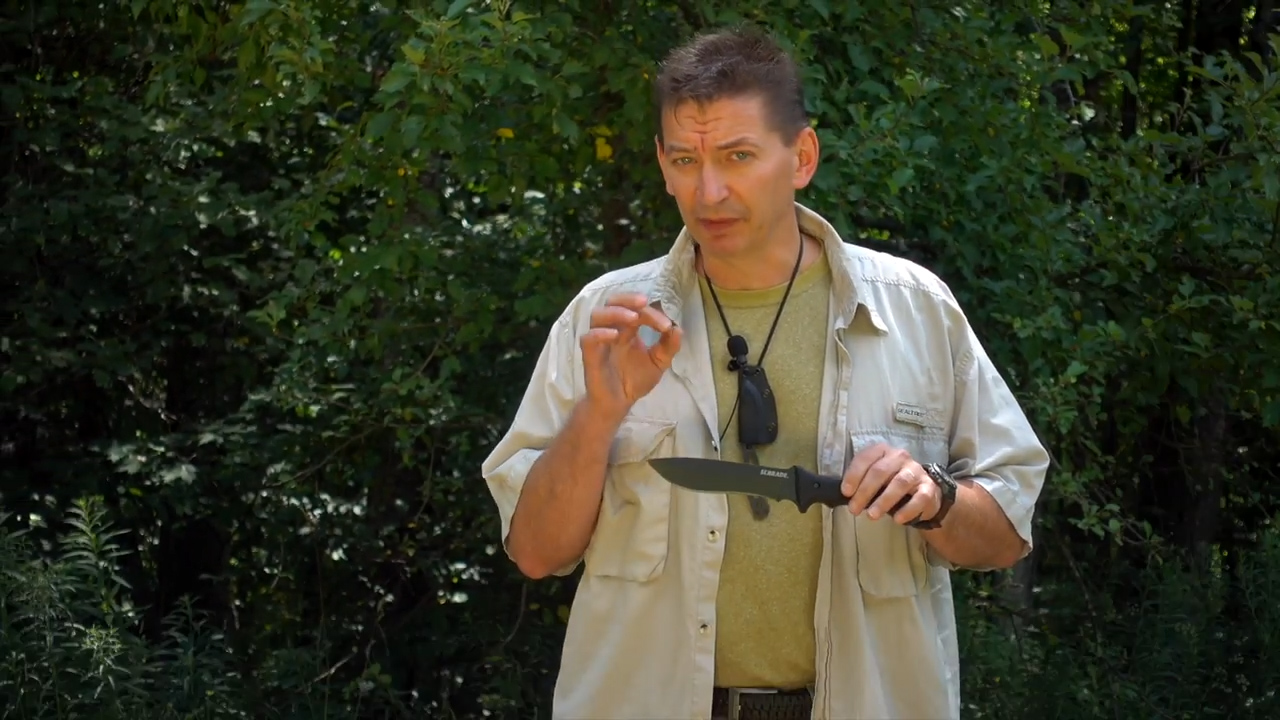knife: (640, 438, 926, 530)
